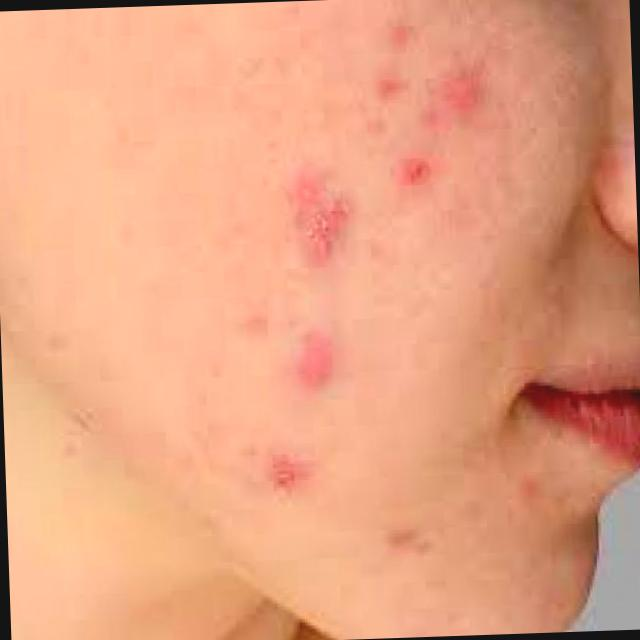nodule: (288, 329, 340, 393), (440, 69, 484, 116)
